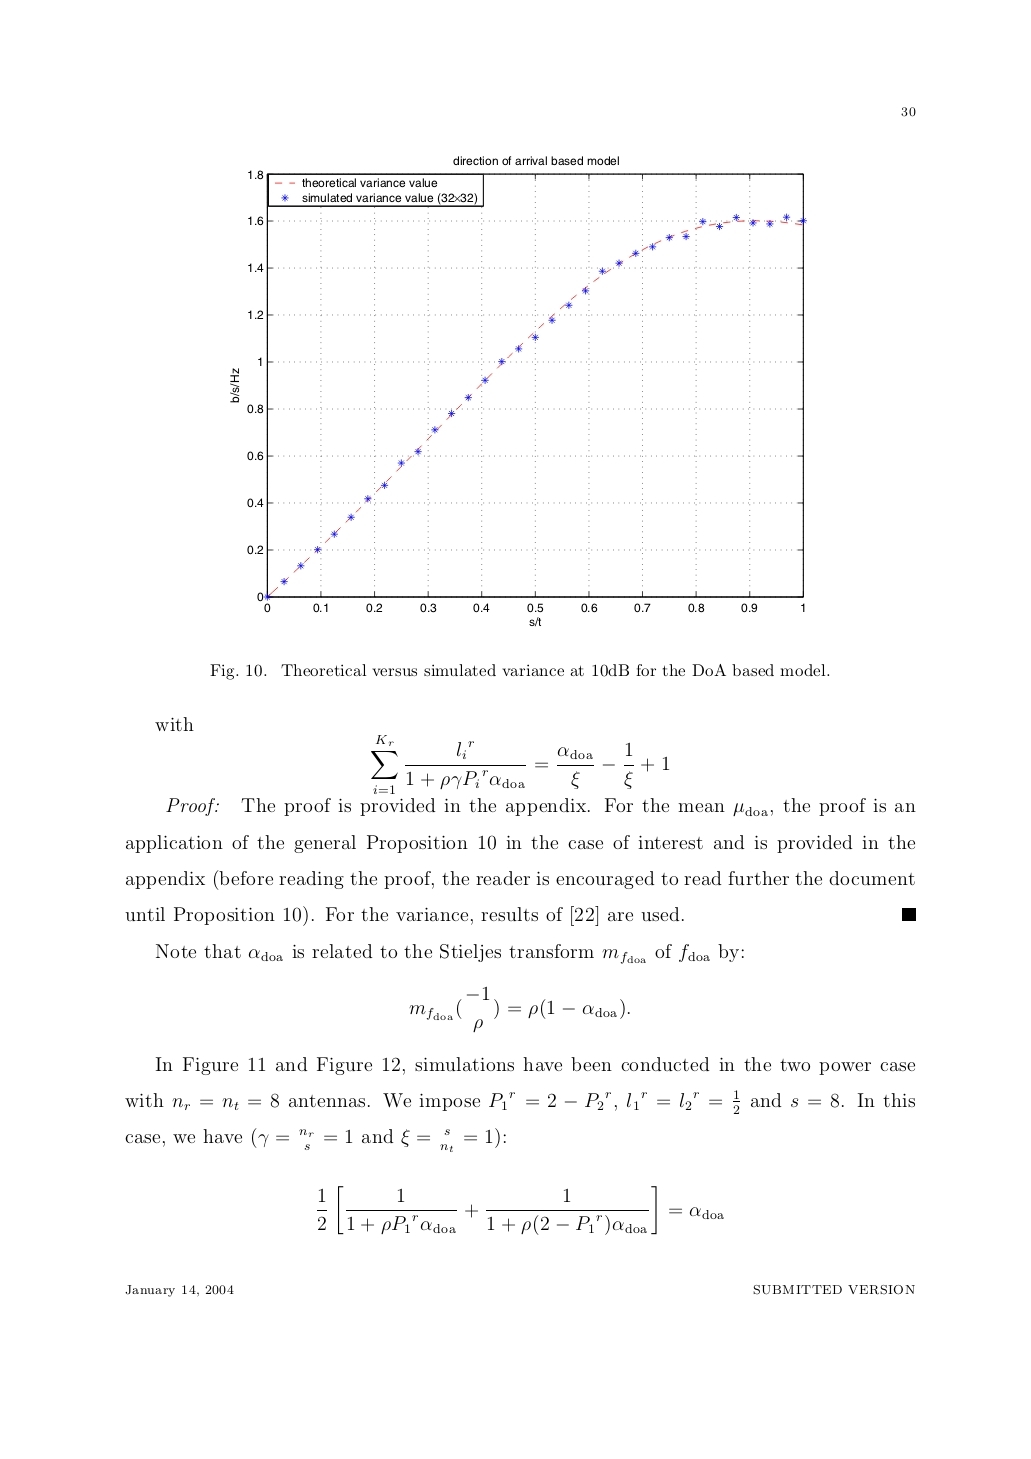figure: (230, 170, 806, 613)
formula: (317, 1185, 723, 1235), (370, 734, 669, 794), (409, 985, 629, 1033)
